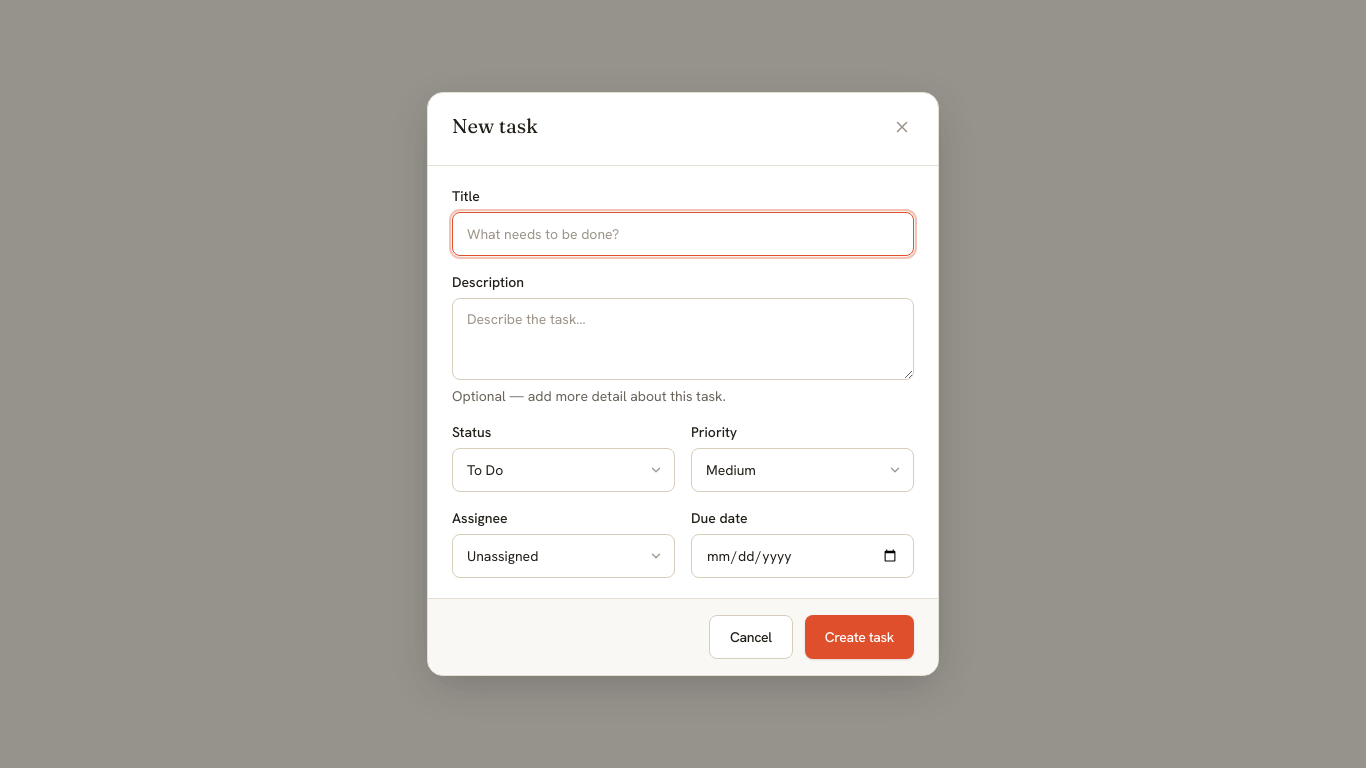
it: TaskFormModal — create mode › shows an error when the title is empty
Click the button "Create task". click: (859, 637)
box: [805,615,914,659]
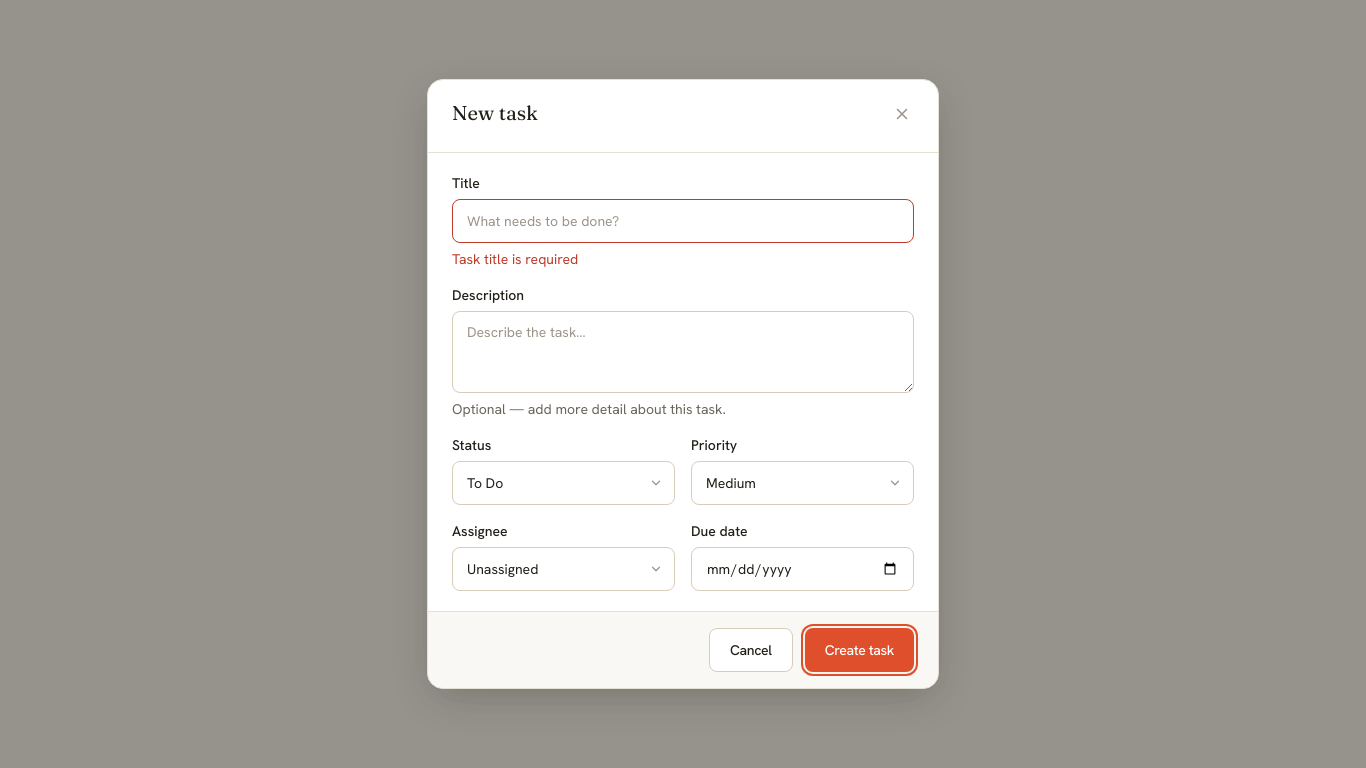
Result: the text "Task title is required" is shown at [452,250,578,268]
